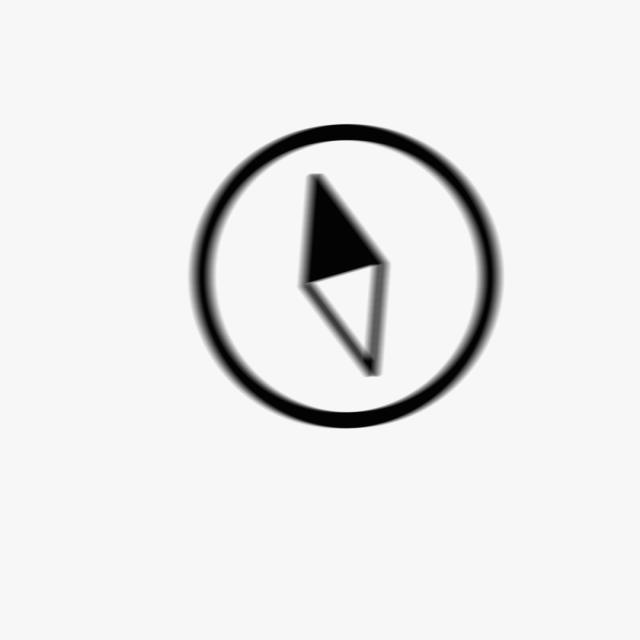compass: (185, 119, 513, 437)
